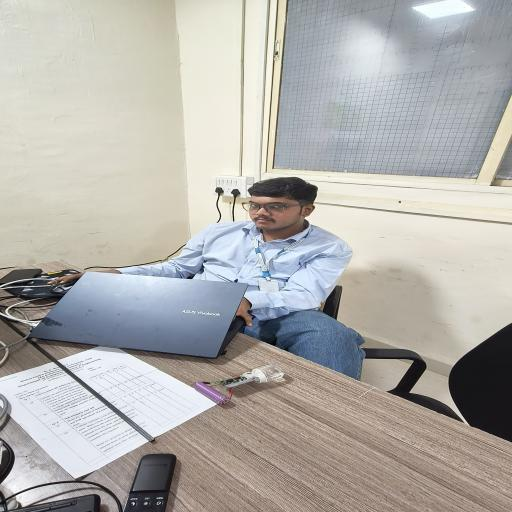survivor: (47, 176, 368, 380)
